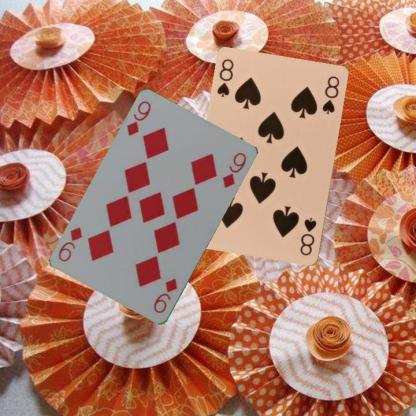8s: (214, 57, 235, 98), (298, 215, 318, 257)
9d: (150, 276, 180, 316), (124, 98, 153, 138)
